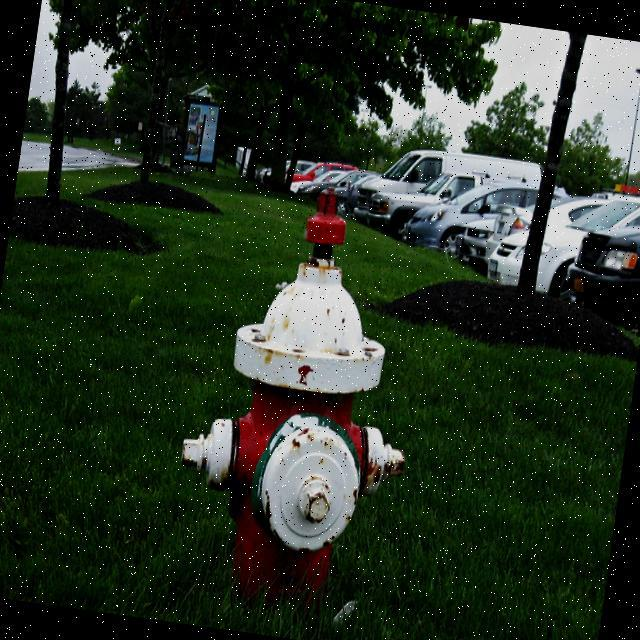fire_hydrant: (161, 169, 445, 623)
